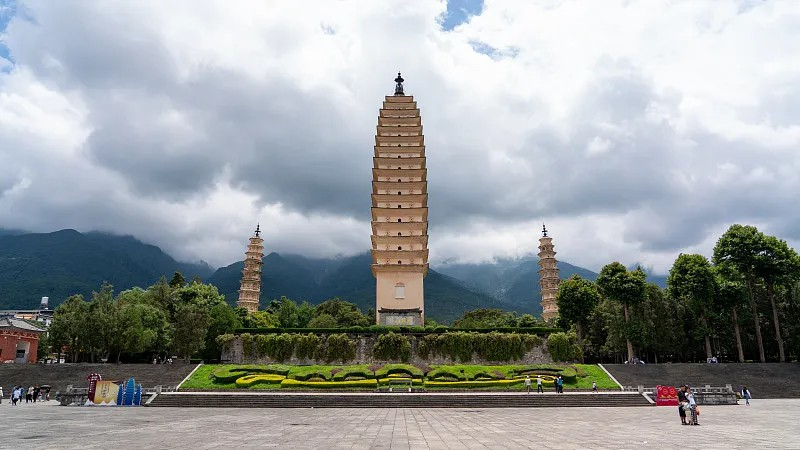ThreePagoda: (369, 71, 429, 324)
